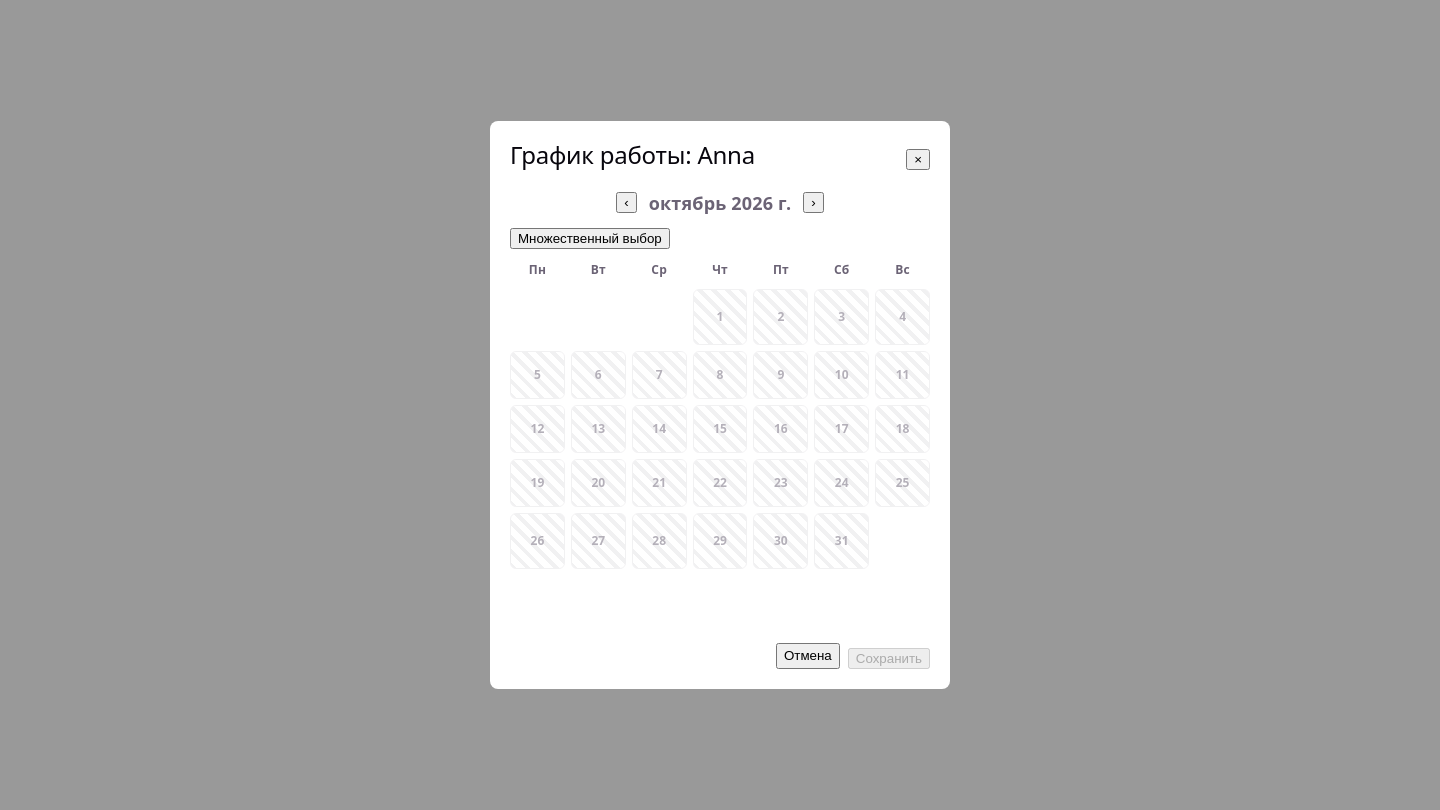
MasterScheduleModal › enters working hours for a day marked as working
Click the button named "День 1" at {"x": 720, "y": 317}, box [693,289,748,345]
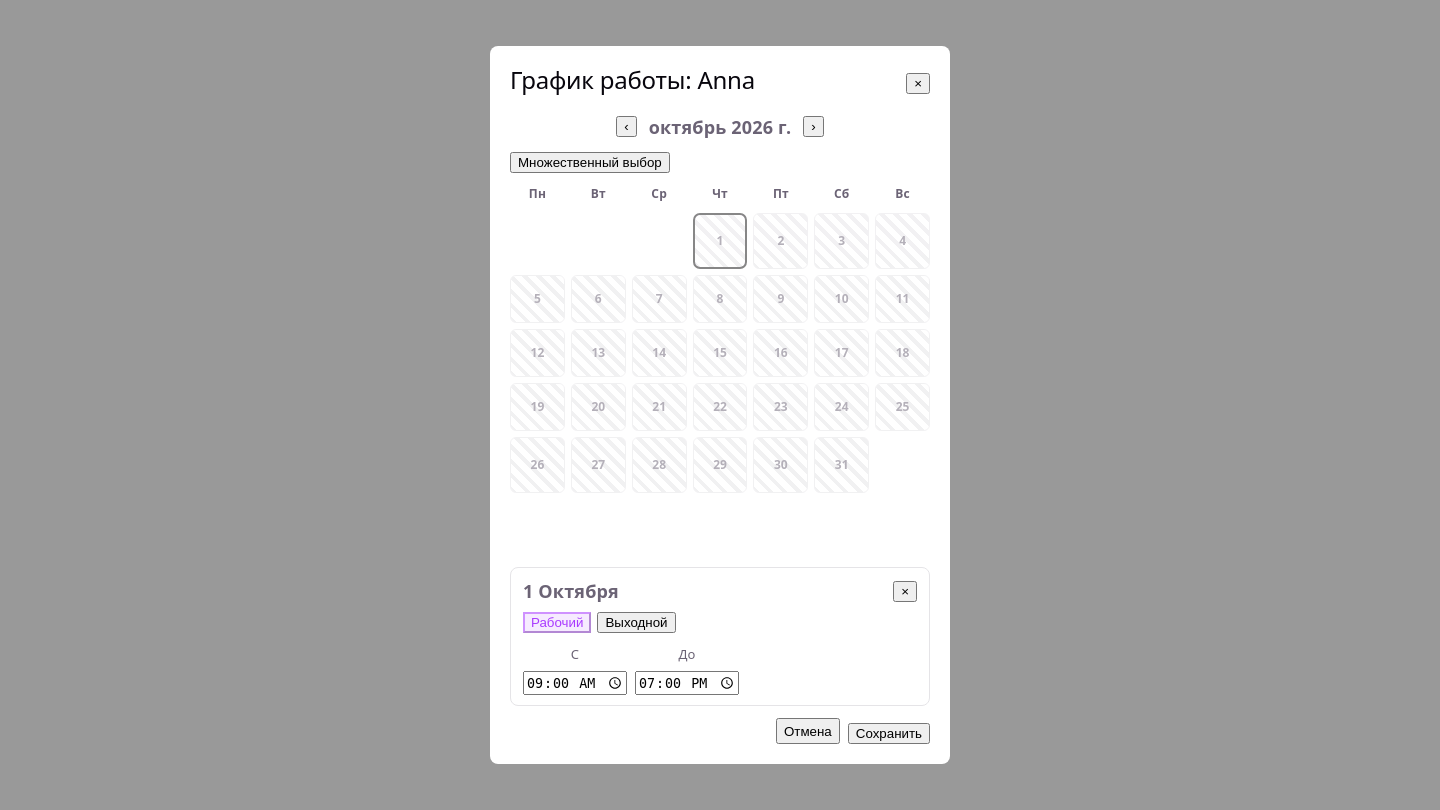
Click the button "Рабочий" at {"x": 557, "y": 623}, box [523,612,592,633]
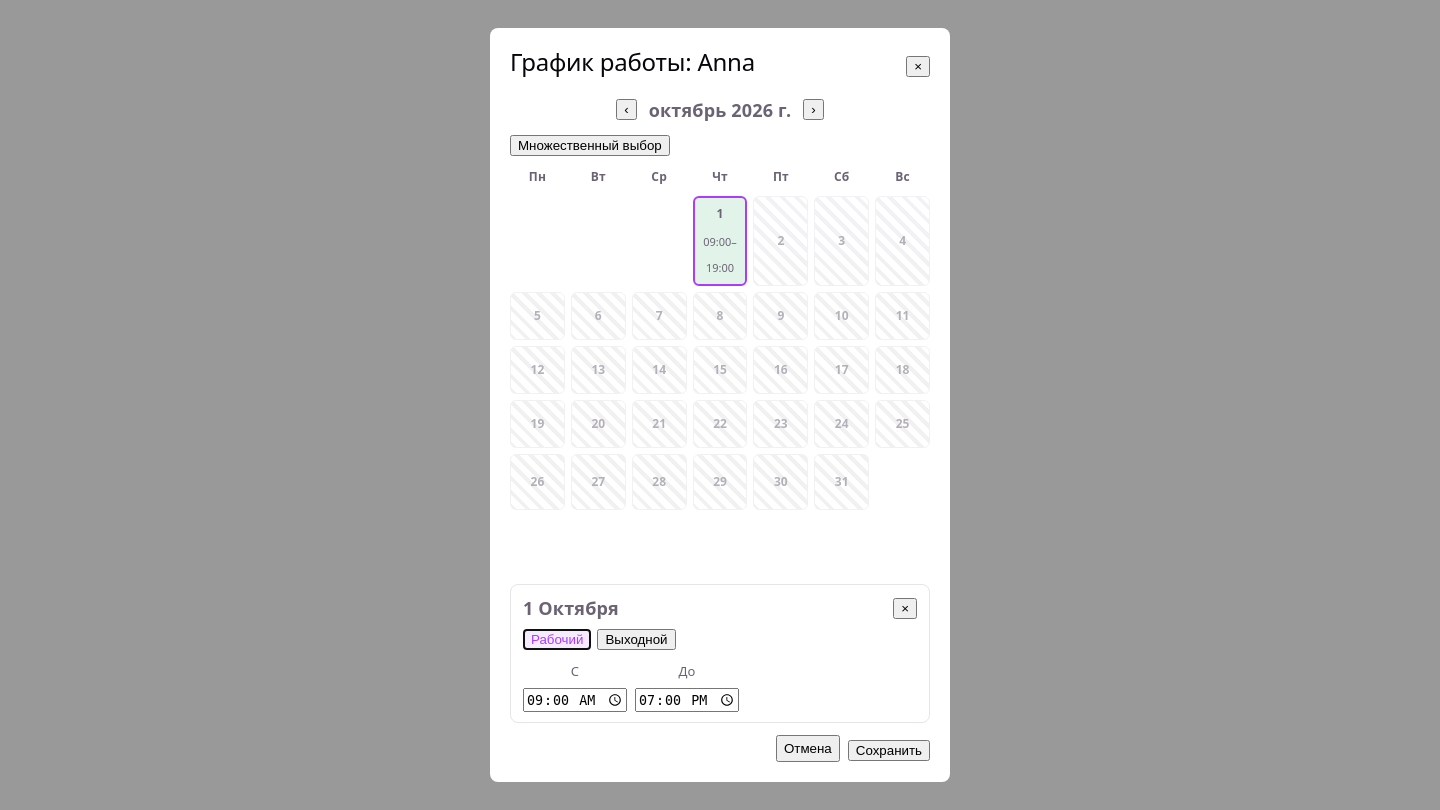
Clear the time field labelled "С" at {"x": 575, "y": 700}, box [523,688,627,712]
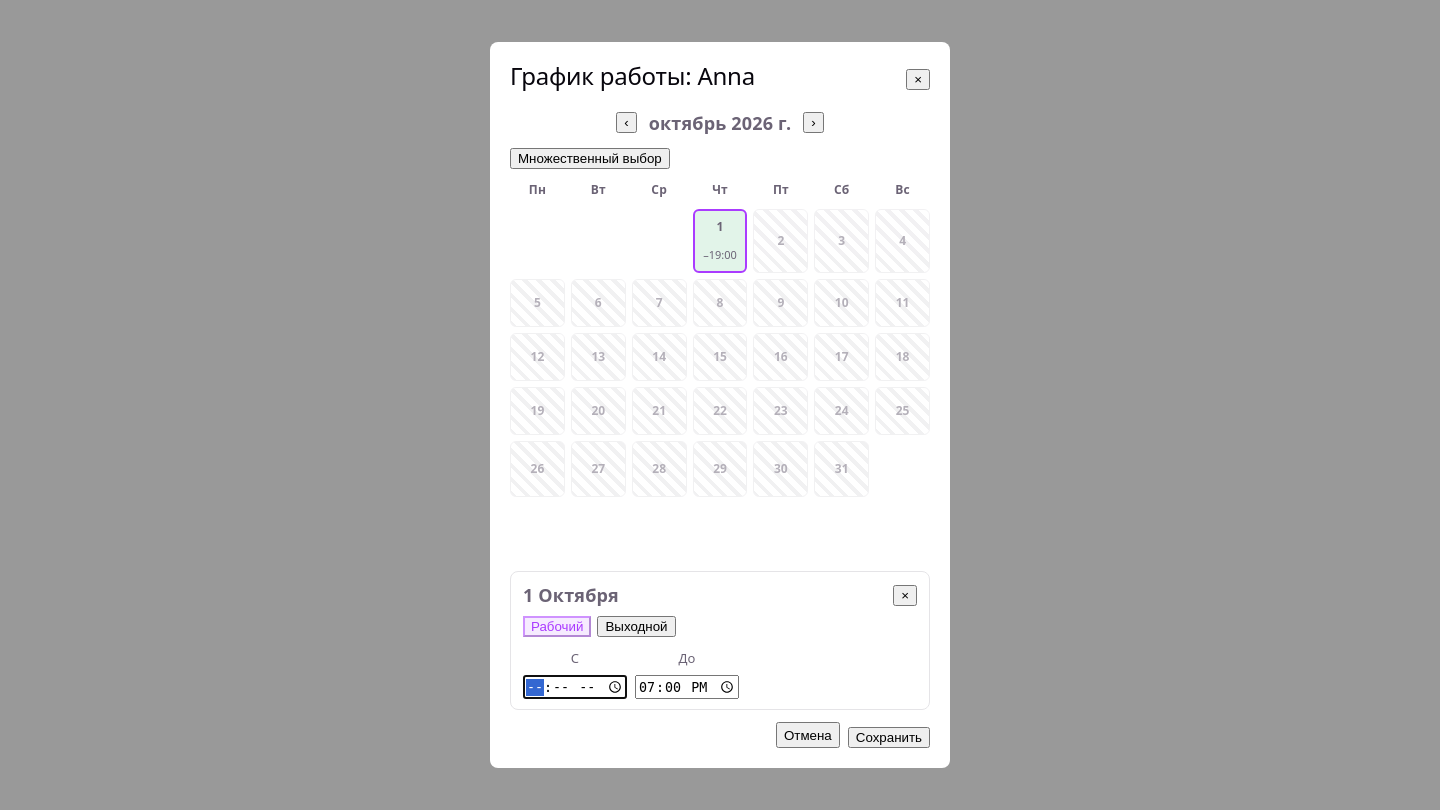
Type "11:00" into the time field labelled "С" at {"x": 575, "y": 687}, box [523,675,627,699]
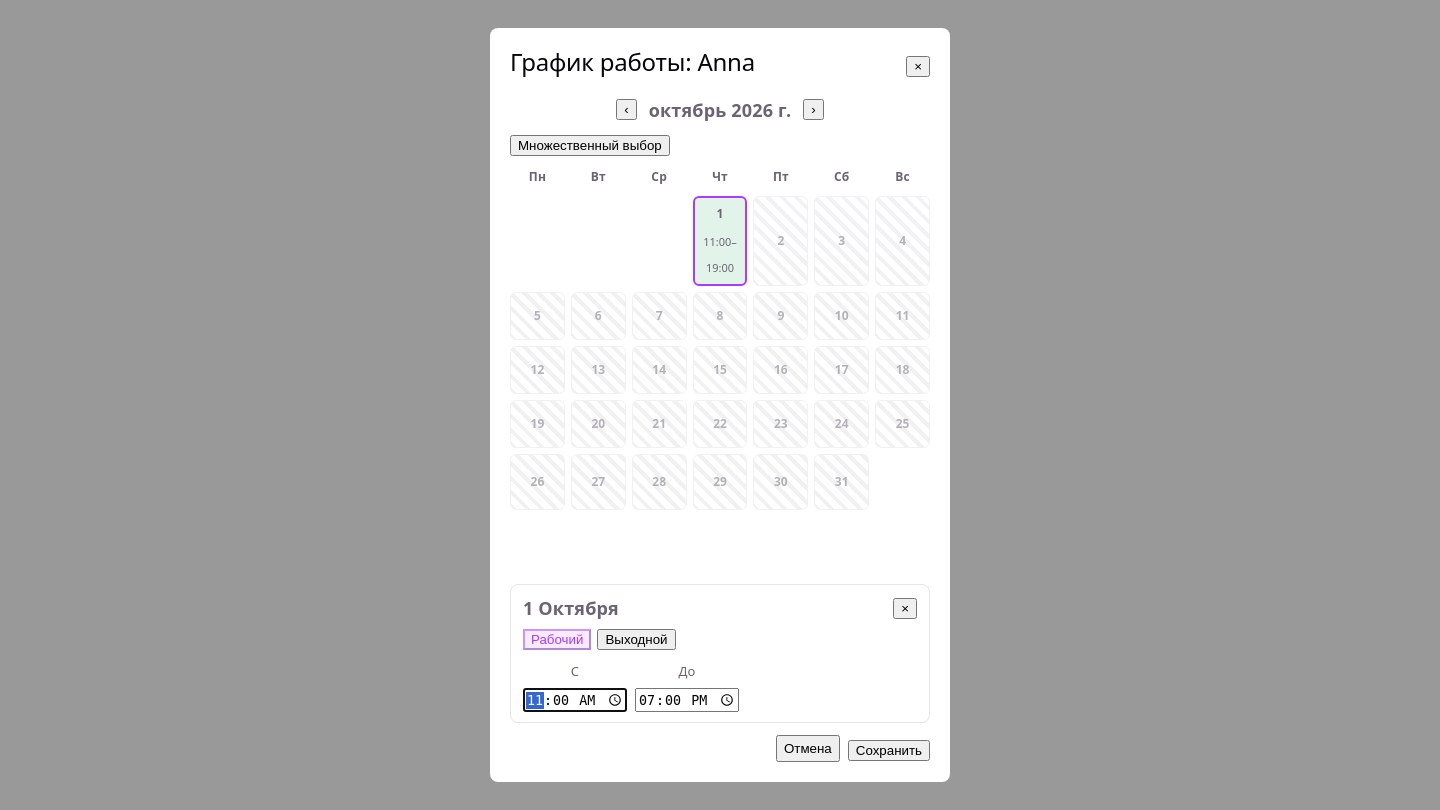
Expected: the text "11:00–19:00" is shown, [703,234,737,275]
